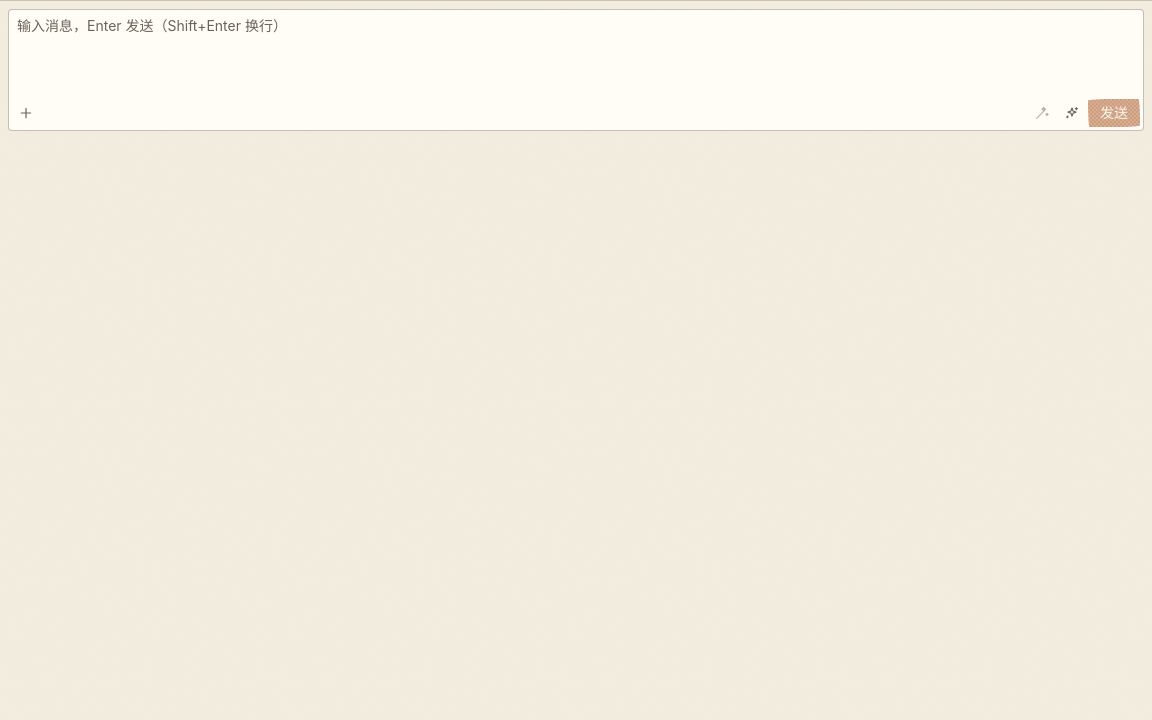
Test: Composer — AI optimize (session-generic IPC) › toasts the failure and keeps the draft when optimize errors
Type "帮我看看" into the text box labelled "输入消息，Enter 发送（Shift+Enter 换行）".
click(576, 70); type("帮我看看")  # box [8, 9, 1144, 131]
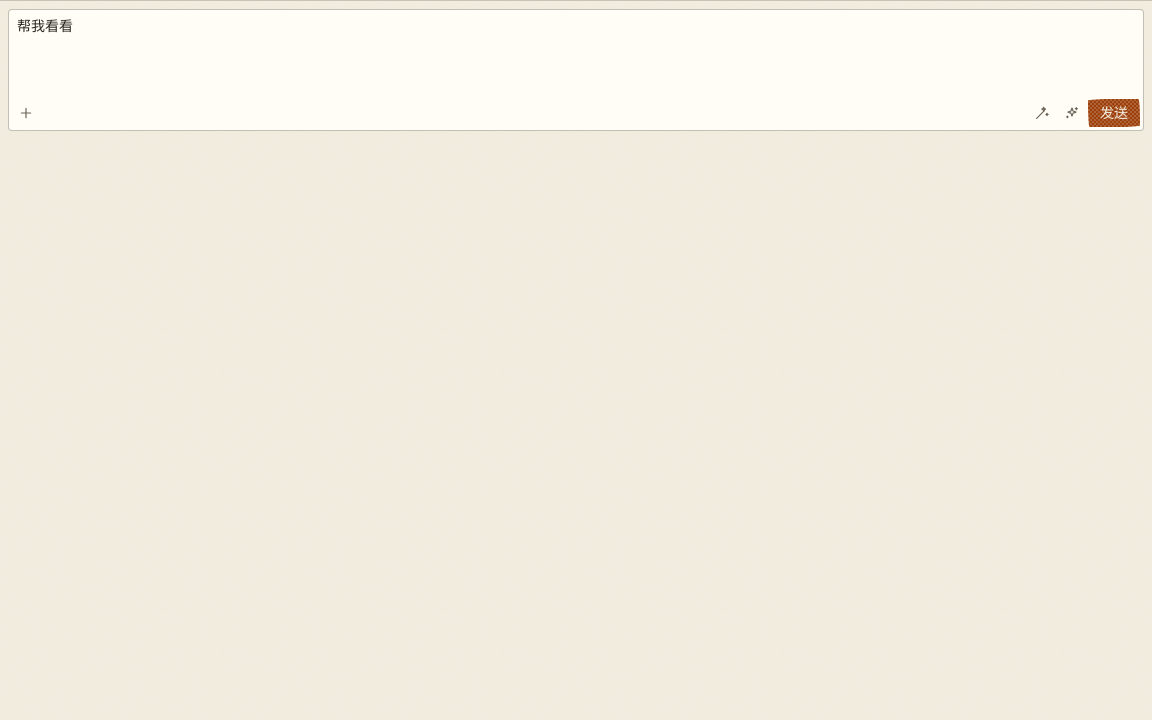
Click the button named "AI 优化提示词".
click(1042, 113)  # box [1028, 99, 1056, 127]
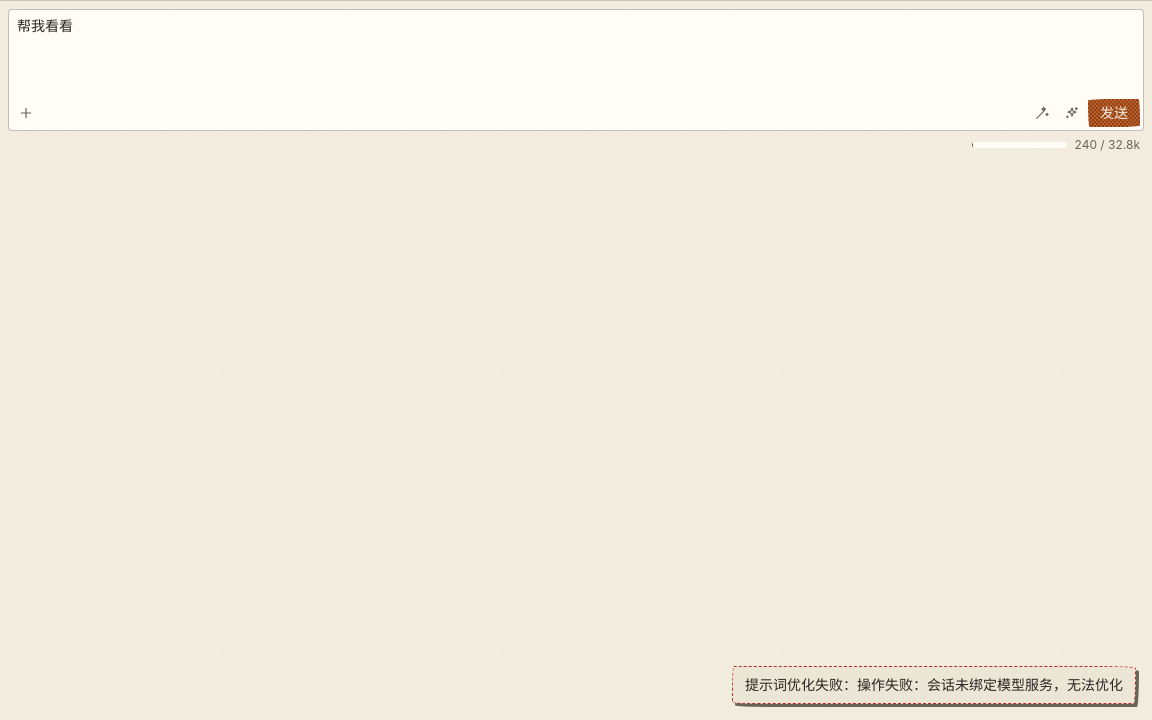
Expected: the button "提示词优化失败：操作失败：会话未绑定模型服务，无法优化" is shown, [745, 675, 1123, 695]
